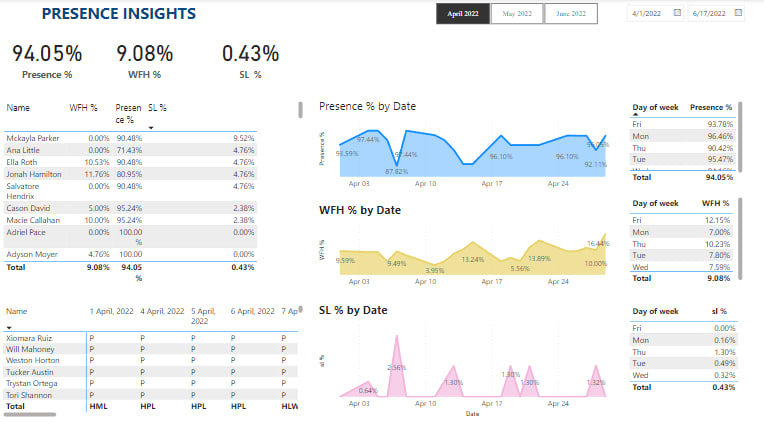

Layout of this report page (visuals, bound fields, positions):
{"tool":"powerbi","page":{"name":"PRESENCE INSIGHTS","canvas":[1280,720],"ordinal":0},"visuals":[{"type":"card","fields":{"Values":["Measure.Presence %"]},"box":[0,48.6,157.5,97.2],"z":2},{"type":"slicer","fields":{"Values":["FINAL DATA.Month"]},"box":[705.3,0,320,48.6],"z":3},{"type":"card","fields":{"Values":["Measure.WFH %"]},"box":[157.5,48.6,169.2,97.2],"z":4},{"type":"card","fields":{"Values":["Measure.sl %"]},"box":[326.7,48.6,186,97.2],"z":5},{"type":"tableEx","fields":{"Values":["FINAL DATA.Name","Measure.WFH %","Measure.Presence %","Measure.sl %"]},"box":[0,165.9,512.7,315],"z":6},{"type":"textbox","box":[53.6,0,289.8,48.6],"z":7},{"type":"pivotTable","fields":{"Rows":["FINAL DATA.Name"],"Values":["Min(FINAL DATA.Value)"],"Columns":["FINAL DATA.Date"]},"box":[0,507.6,512.7,197.7],"z":8},{"type":"stackedAreaChart","fields":{"Y":["Measure.Presence %"],"Category":["FINAL DATA.Date"]},"box":[529.4,165.9,507.6,160.8],"z":9},{"type":"stackedAreaChart","fields":{"Y":["Measure.WFH %"],"Category":["FINAL DATA.Date"]},"box":[529.4,340.1,507.6,152.5],"z":10},{"type":"stackedAreaChart","title":"SL % by Date","fields":{"Y":["Measure.sl %"],"Category":["FINAL DATA.Date"]},"box":[529.4,507.6,507.6,197.7],"z":11},{"type":"tableEx","fields":{"Values":["FINAL DATA.Day of week","Measure.Presence %"]},"box":[1048.8,165.9,201,145.8],"z":12},{"type":"tableEx","fields":{"Values":["FINAL DATA.Day of week","Measure.WFH %"]},"box":[1048.8,326.7,201,154.1],"z":13},{"type":"tableEx","fields":{"Values":["FINAL DATA.Day of week","Measure.sl %"]},"box":[1048.8,507.6,201,197.7],"z":14},{"type":"slicer","fields":{"Values":["FINAL DATA.Date"]},"box":[1037.1,0,224.5,48.6],"z":15}]}

Visuals, with their boxes in screenshot pixels (x1, y1, x2, y2), scaled from the page's 1280x720 canvas onto the 764x424 screenshot:
card - Measure.Presence %: [x1=0, y1=29, x2=94, y2=86]
slicer - FINAL DATA.Month: [x1=421, y1=0, x2=612, y2=29]
card - Measure.WFH %: [x1=94, y1=29, x2=195, y2=86]
card - Measure.sl %: [x1=195, y1=29, x2=306, y2=86]
tableEx - FINAL DATA.Name x Measure.WFH %: [x1=0, y1=98, x2=306, y2=283]
textbox: [x1=32, y1=0, x2=205, y2=29]
pivotTable - FINAL DATA.Name x Min(FINAL DATA.Value): [x1=0, y1=299, x2=306, y2=415]
stackedAreaChart - Measure.Presence % x FINAL DATA.Date: [x1=316, y1=98, x2=619, y2=192]
stackedAreaChart - Measure.WFH % x FINAL DATA.Date: [x1=316, y1=200, x2=619, y2=290]
"SL % by Date" stackedAreaChart: [x1=316, y1=299, x2=619, y2=415]
tableEx - FINAL DATA.Day of week x Measure.Presence %: [x1=626, y1=98, x2=746, y2=184]
tableEx - FINAL DATA.Day of week x Measure.WFH %: [x1=626, y1=192, x2=746, y2=283]
tableEx - FINAL DATA.Day of week x Measure.sl %: [x1=626, y1=299, x2=746, y2=415]
slicer - FINAL DATA.Date: [x1=619, y1=0, x2=753, y2=29]
